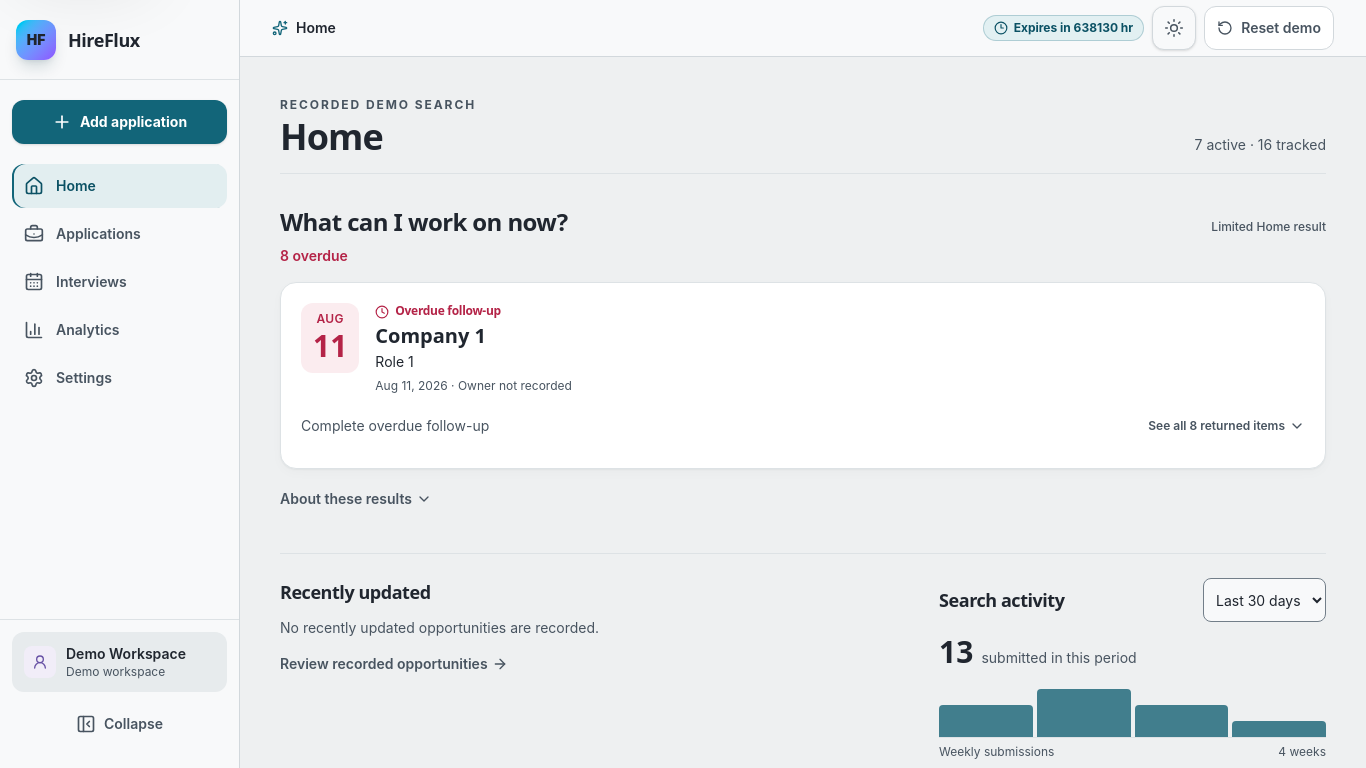
Test: workspace milestone features › reveals extra recorded rows without hiding the first commitments
This screenshot has width=1366, height=768.
Expected: the list item "8 overdue" is shown, top-left (280, 246), bottom-right (348, 266)
Expected: the link with aria-label "Role 1 · Company 1" is shown, top-left (375, 322), bottom-right (486, 370)
Click the button "See all 8 returned items": (1227, 426) top-left (1148, 404), bottom-right (1305, 448)
(page scrolled)
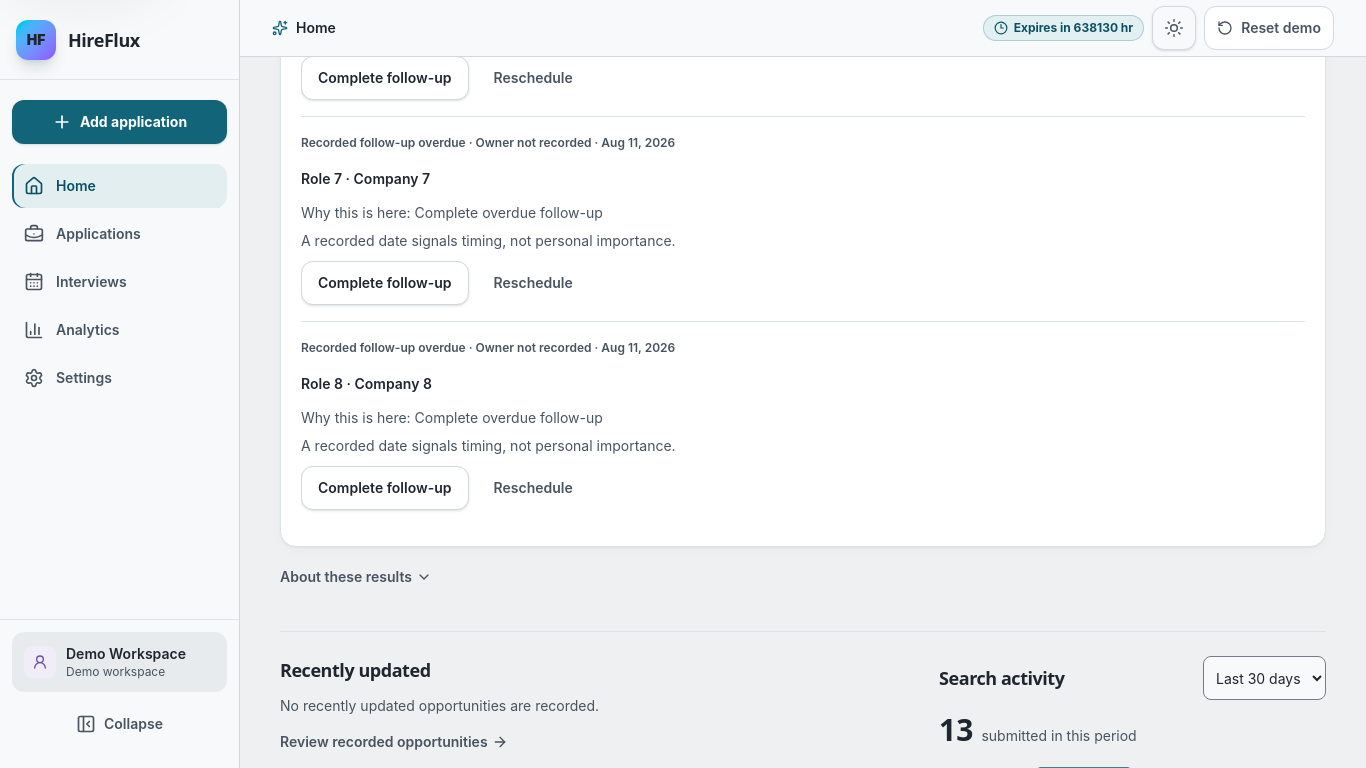
Now the link "Role 8 · Company 8" is shown, box top-left (301, 375), bottom-right (432, 392)
